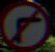Don't turn right: (9, 4, 42, 43)
